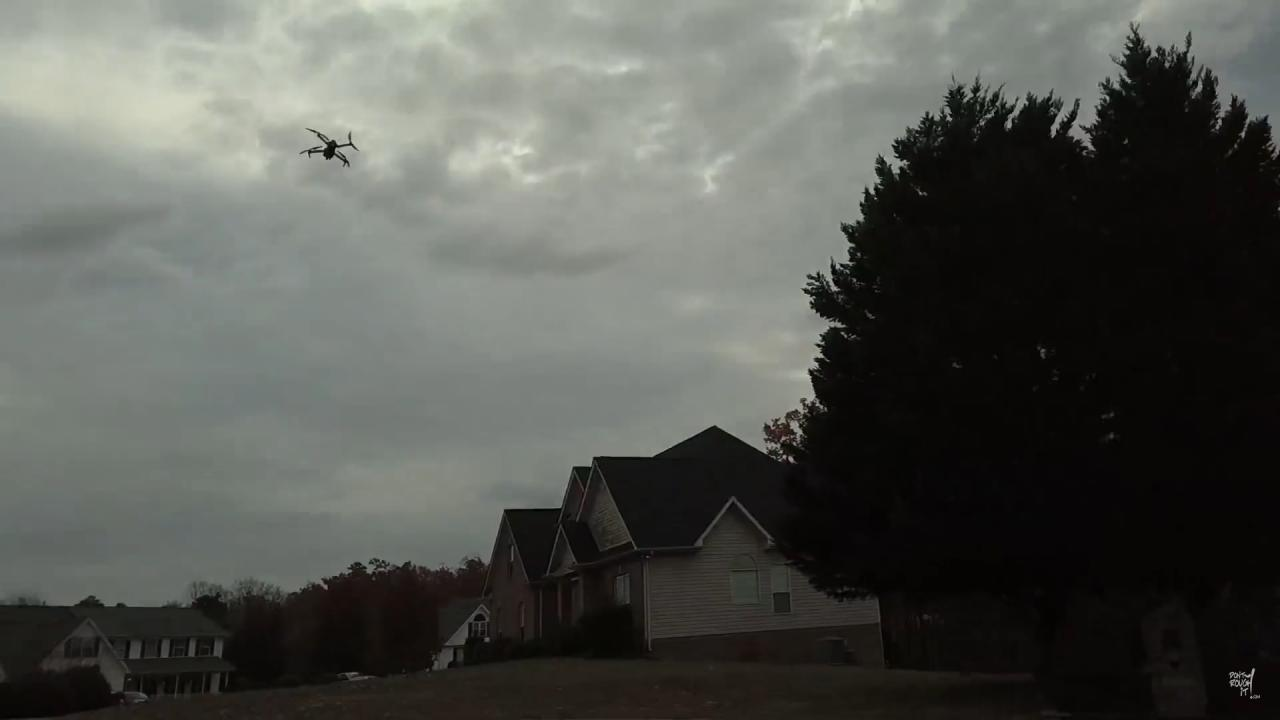Drone: (290, 115, 370, 179)
